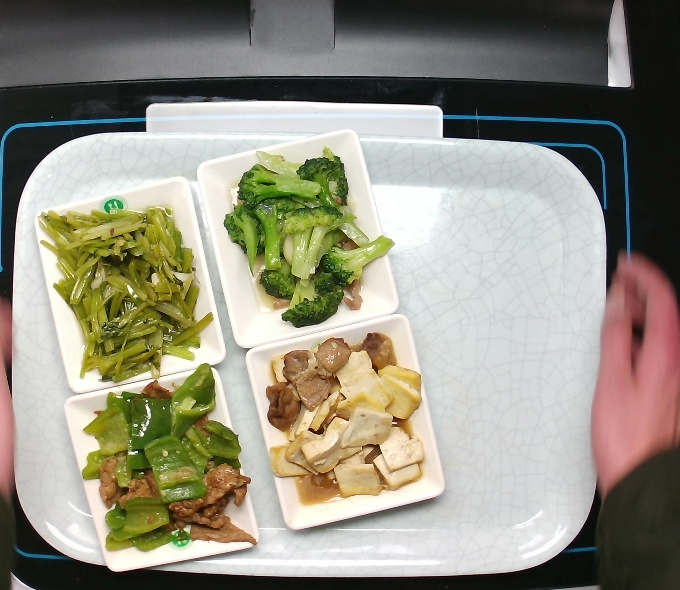wcq-DouFuRouPian: (250, 327, 433, 502)
wcq-QinCai: (42, 195, 213, 395)
wcq-QingJiaoChaoRou: (73, 366, 257, 564)
wcq-XiLanHua: (218, 148, 395, 329)
